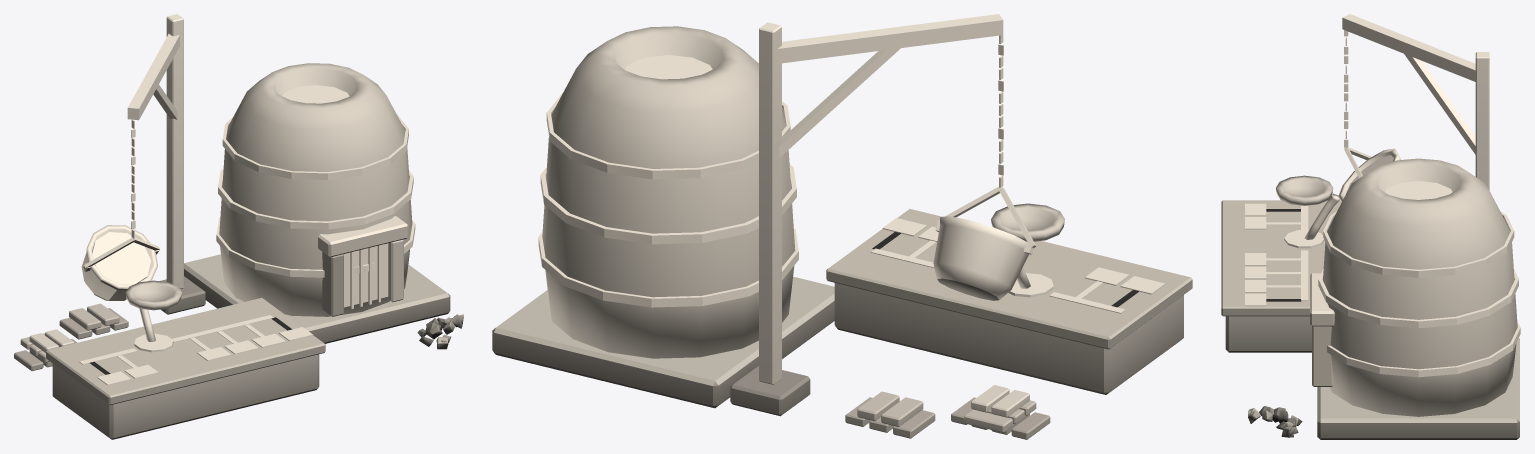
File: SM_VKI_Prop_POI_Crucible.fbx
3 renders of one model, left to right at view 1: azimuth 30°, elevation 25°; view 2: azimuth 150°, elevation 25°; view 3: azimuth 270°, elevation 25°, orthographic. The views are drawn at different scales.
Parts seen in each view (by area): view 1: SM_VKI_Prop_POI_Crucible.001; view 2: SM_VKI_Prop_POI_Crucible.001; view 3: SM_VKI_Prop_POI_Crucible.001.
Part boxes in pixels (x1,y1,x2,y2): SM_VKI_Prop_POI_Crucible.001: [14, 14, 463, 439]; SM_VKI_Prop_POI_Crucible.001: [492, 14, 1192, 439]; SM_VKI_Prop_POI_Crucible.001: [1221, 14, 1520, 439].
Size of the model in its own units: 4.3 by 3.02 by 2.81.
